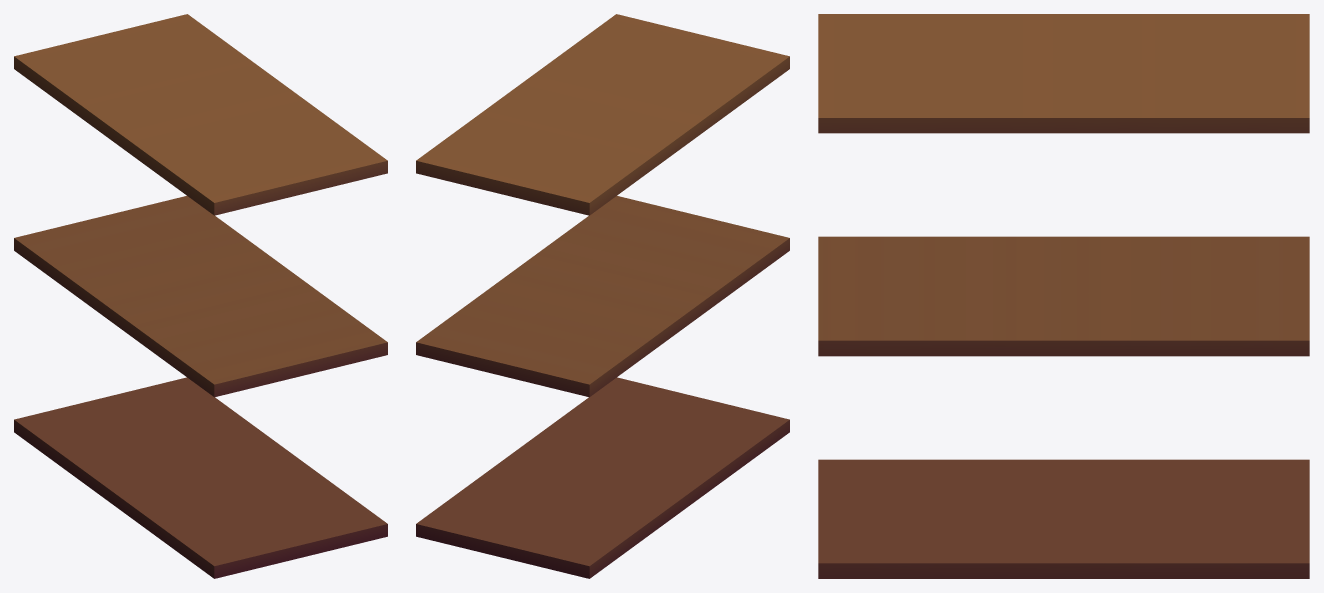
The model's file is TSP_Bathroom_Wall_Shelves_01C.fbx.
3 views of the same model, side by side, from view 1: azimuth 30°, elevation 25°; view 2: azimuth 150°, elevation 25°; view 3: azimuth 270°, elevation 25° (orthographic). The views are drawn at different scales.
Visible parts, largest first — view 1: TSP_Bathroom_Wall_Shelves_01C; view 2: TSP_Bathroom_Wall_Shelves_01C; view 3: TSP_Bathroom_Wall_Shelves_01C.
Part boxes in pixels (x1,y1,x2,y2): TSP_Bathroom_Wall_Shelves_01C: (14, 14, 387, 578); TSP_Bathroom_Wall_Shelves_01C: (416, 14, 789, 578); TSP_Bathroom_Wall_Shelves_01C: (818, 14, 1309, 578).
Size of the model in its own units: 0.5 by 1.03 by 1.
